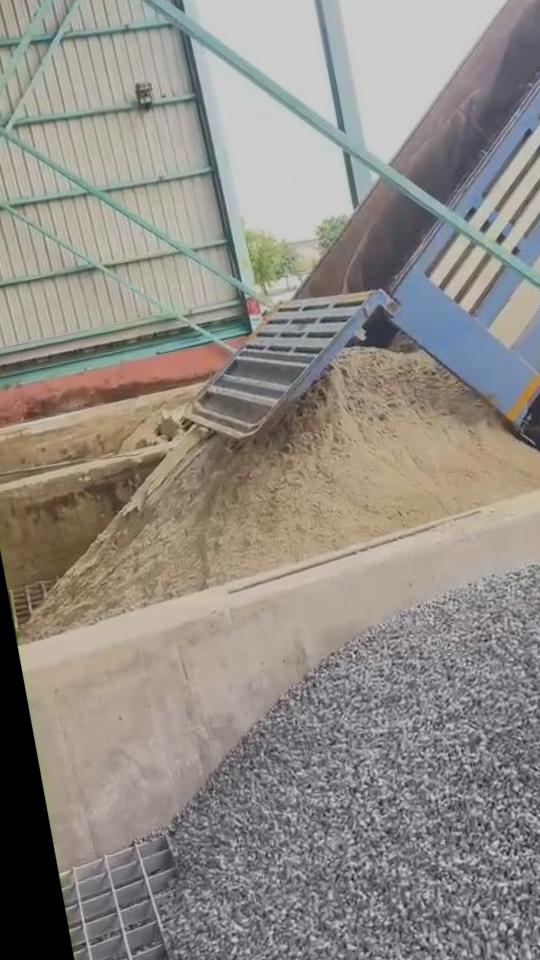gravel: (157, 556, 540, 960)
sand: (25, 349, 540, 636), (120, 404, 193, 452)
